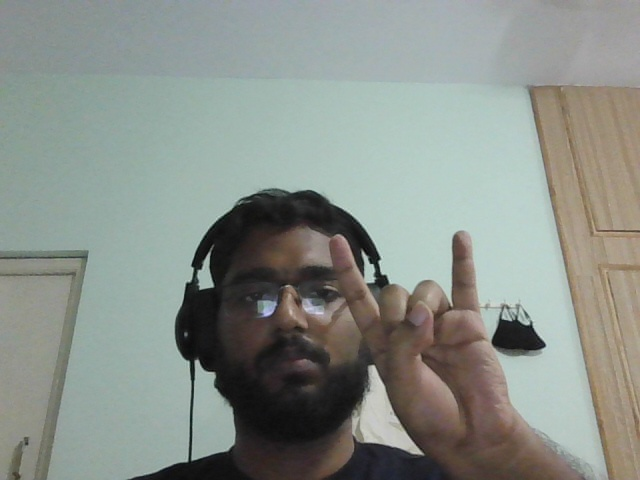I Love You: (304, 227, 567, 454)
